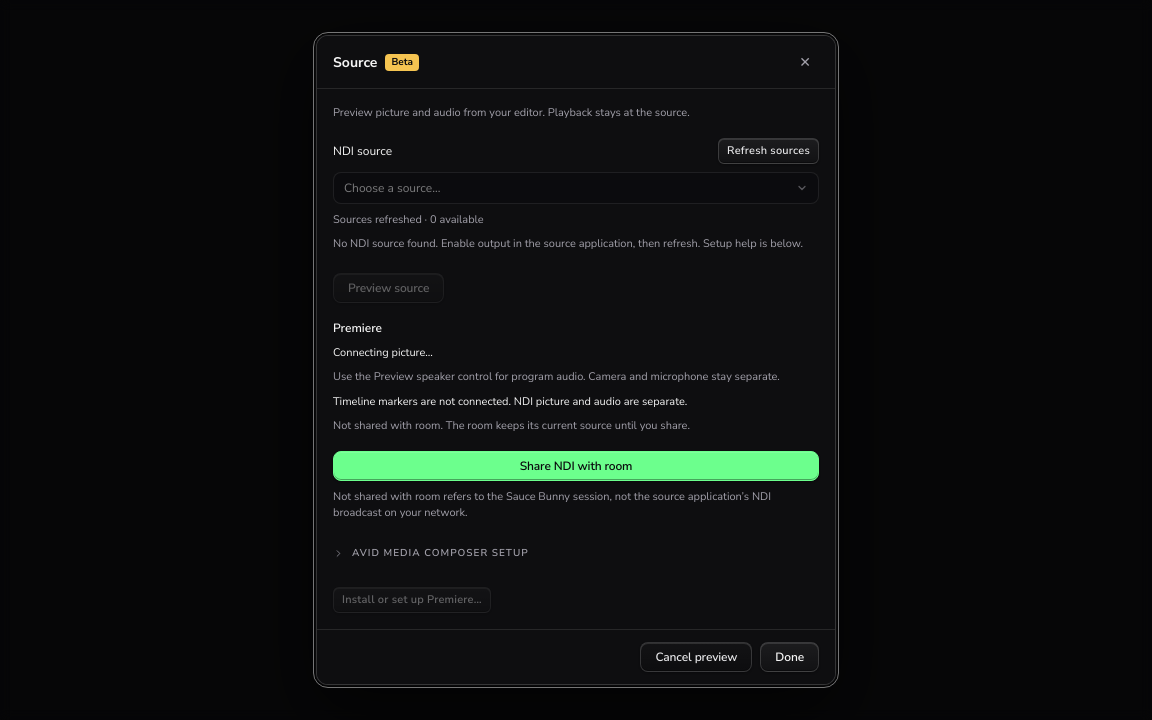
NDI preflight states › leaves the room and panel alone when publication fails
Step 1. Click the button "Share NDI with room" → [576, 466], box [333,451,819,481]
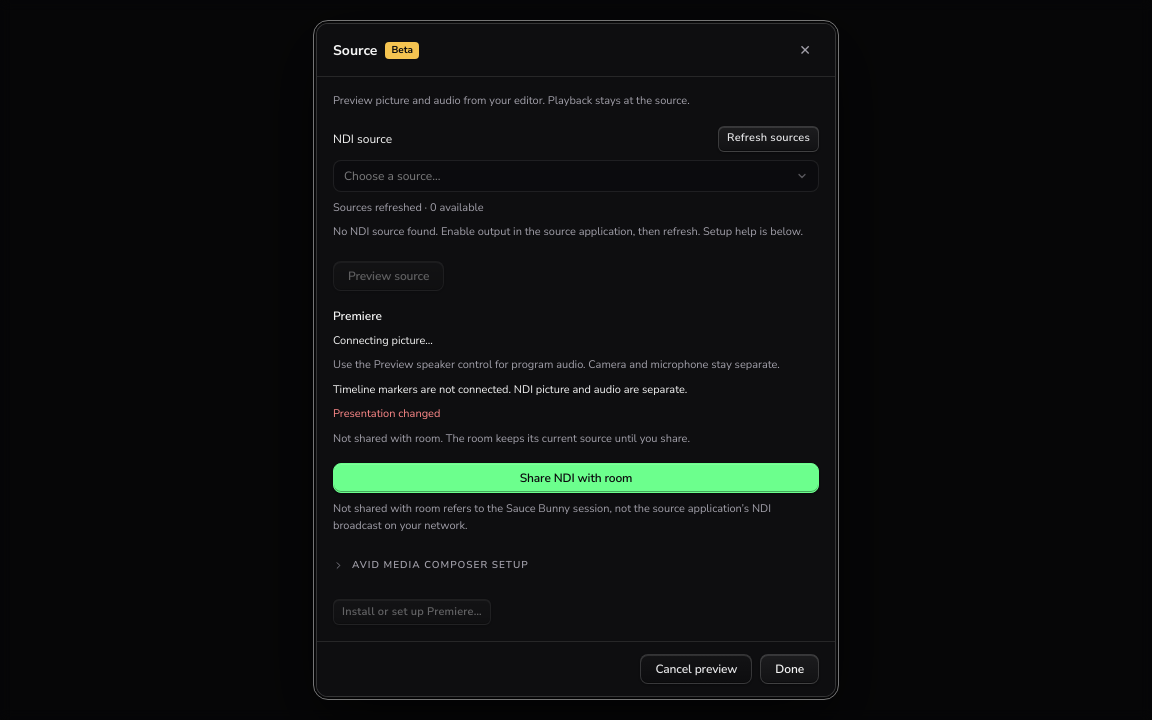
Result: the message "Presentation changed" is shown at [333,406,440,421]
